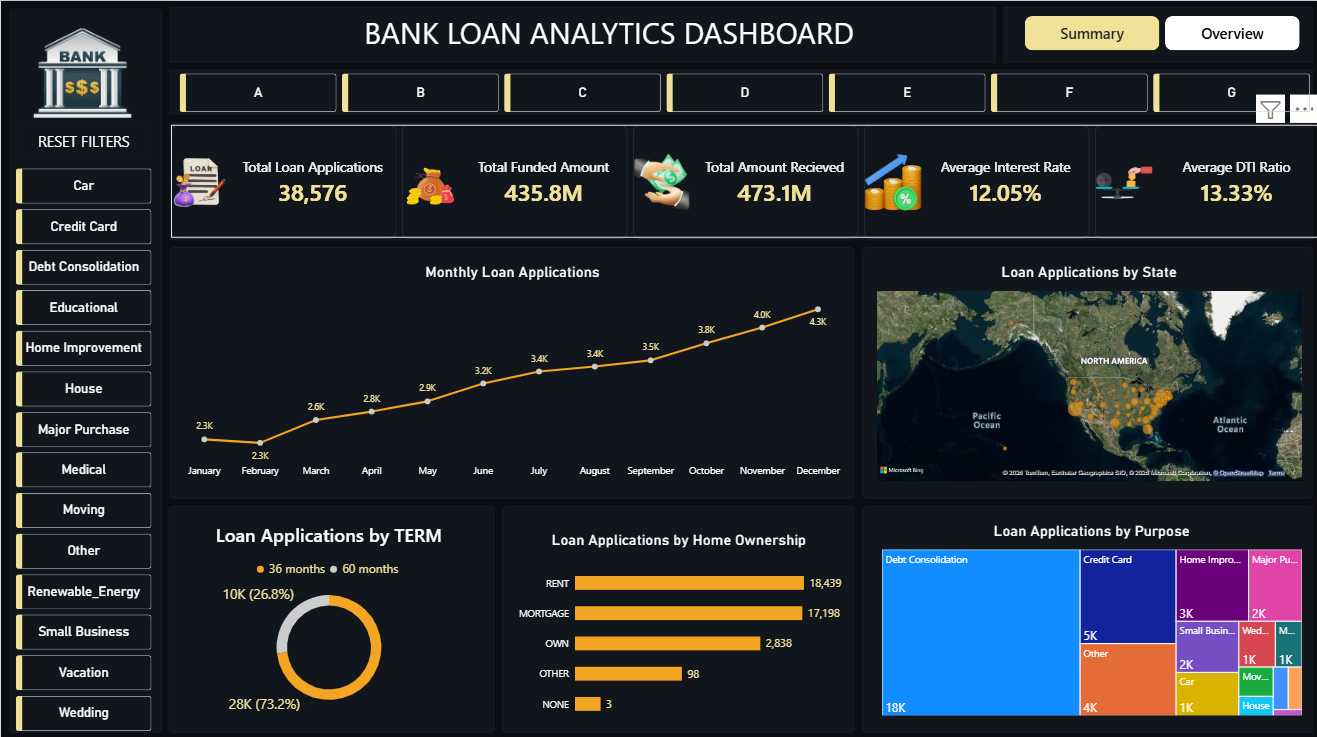

What the dashboard file says about the page in this screenshot:
{"tool":"powerbi","page":{"name":"Overview","canvas":[1920,1080],"ordinal":1},"visuals":[{"type":"cardVisual","fields":{"Data":["financial_loan.Total Loan Applications","financial_loan.Total Funded Amount","financial_loan.Total Amount Recieved","financial_loan.Average Interest Rate","financial_loan.Average DTI Rate"]},"box":[247.9,179.2,1672.1,166.5],"z":0},{"type":"cardVisual","fields":{"Data":["financial_loan.Total Loan Applications","financial_loan.Total Funded Amount","financial_loan.Total Amount Recieved","financial_loan.Average Interest Rate","financial_loan.Average DTI Rate"]},"box":[247.9,179.2,1672.1,166.5],"z":1000},{"type":"image","box":[18.1,29,200.9,150.2],"z":2000},{"type":"advancedSlicerVisual","fields":{"Values":["financial_loan.PURPOSE"]},"box":[21.7,244.3,197.3,823.4],"z":3000},{"type":"advancedSlicerVisual","fields":{"Values":["financial_loan.GRADE"]},"box":[260.6,105,1646.8,56.1],"z":4000},{"type":"actionButton","box":[21.7,179.2,197.3,50.7],"z":5000},{"type":"textbox","box":[510.3,16.3,747.4,61.5],"z":6000},{"type":"pageNavigator","box":[1489.4,21.7,400,50],"z":7000},{"type":"lineChart","title":"Monthly Loan Applications ","fields":{"Category":["financial_loan.ISSUE_DATE.Variation.Date Hierarchy.Month"],"Y":["financial_loan.Total Loan Applications"]},"box":[247.9,367.4,993.5,345.6],"z":8000},{"type":"donutChart","title":"Loan Applications by TERM","fields":{"Category":["financial_loan.TERM"],"Y":["financial_loan.Total Loan Applications"]},"box":[247.9,743.8,459.7,311.3],"z":8001},{"type":"clusteredBarChart","title":"Loan Applications by Home Ownership","fields":{"Category":["financial_loan.HOME_OWNERSHIP"],"Y":["financial_loan.Total Loan Applications"]},"box":[731.1,756.4,510.3,311.3],"z":8002},{"type":"treemap","title":"Loan Applications by Purpose","fields":{"Group":["financial_loan.PURPOSE"],"Values":["financial_loan.Total Loan Applications"]},"box":[1265,743.8,642.4,311.3],"z":8003},{"type":"map","title":" Loan Applications by State","fields":{"Category":["financial_loan.ADDRESS_STATE"],"Size":["financial_loan.Total Loan Applications"]},"box":[1257.7,367.4,649.7,345.6],"z":8004}]}

Visuals, with their boxes in screenshot pixels (x1, y1, x2, y2), scaled from the page's 1920x1080 canvas onto the 1317x737 screenshot:
cardVisual - financial_loan.Total Loan Applications x financial_loan.Total Funded Amount: bbox=(170, 122, 1316, 236)
cardVisual - financial_loan.Total Loan Applications x financial_loan.Total Funded Amount: bbox=(170, 122, 1316, 236)
image: bbox=(12, 20, 150, 122)
advancedSlicerVisual - financial_loan.PURPOSE: bbox=(15, 167, 150, 729)
advancedSlicerVisual - financial_loan.GRADE: bbox=(179, 72, 1308, 110)
actionButton: bbox=(15, 122, 150, 157)
textbox: bbox=(350, 11, 863, 53)
pageNavigator: bbox=(1022, 15, 1296, 49)
"Monthly Loan Applications " lineChart: bbox=(170, 251, 852, 487)
"Loan Applications by TERM" donutChart: bbox=(170, 508, 485, 720)
"Loan Applications by Home Ownership" clusteredBarChart: bbox=(501, 516, 852, 729)
"Loan Applications by Purpose" treemap: bbox=(868, 508, 1308, 720)
" Loan Applications by State" map: bbox=(863, 251, 1308, 487)
